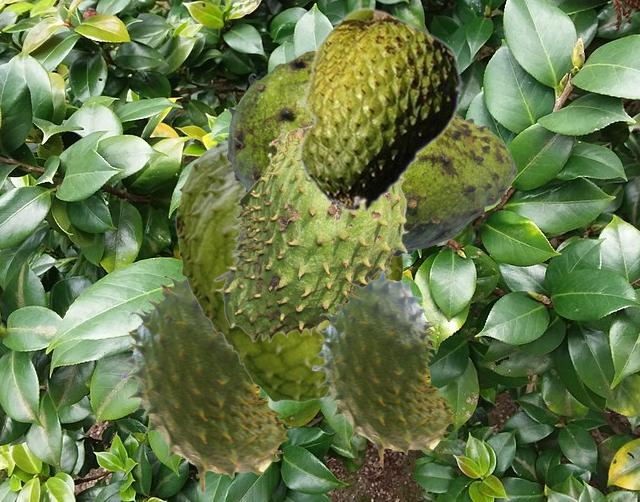guyabano: (224, 48, 516, 256), (175, 139, 403, 402), (213, 125, 408, 342), (121, 275, 288, 493), (296, 6, 462, 214), (312, 269, 454, 467)
